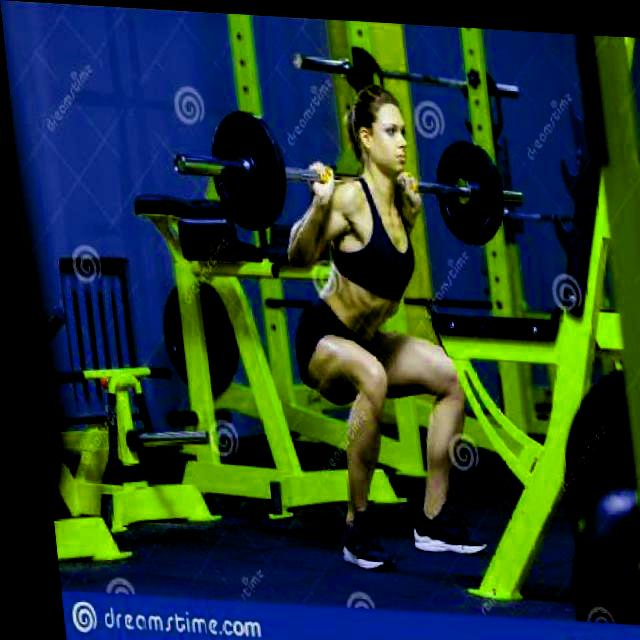barbell: (163, 98, 286, 237)
